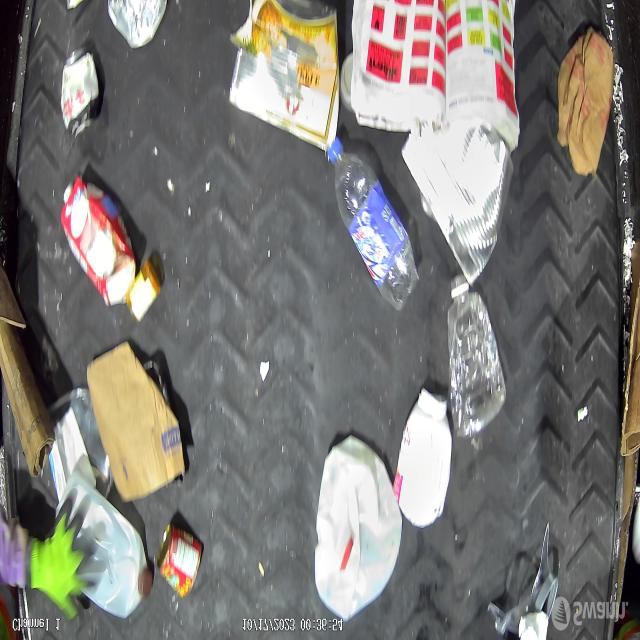can: (160, 520, 204, 600)
milk_jug: (314, 433, 404, 623), (56, 474, 153, 618)
non_white_jug: (60, 175, 137, 306)
plastic_bottle: (330, 142, 420, 311), (449, 280, 506, 436)
